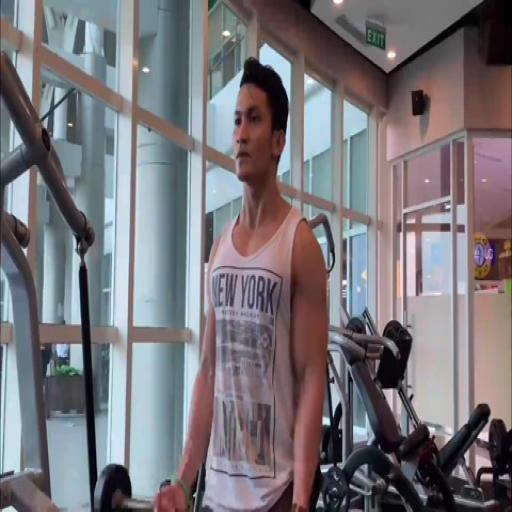exercise: (151, 56, 332, 510)
